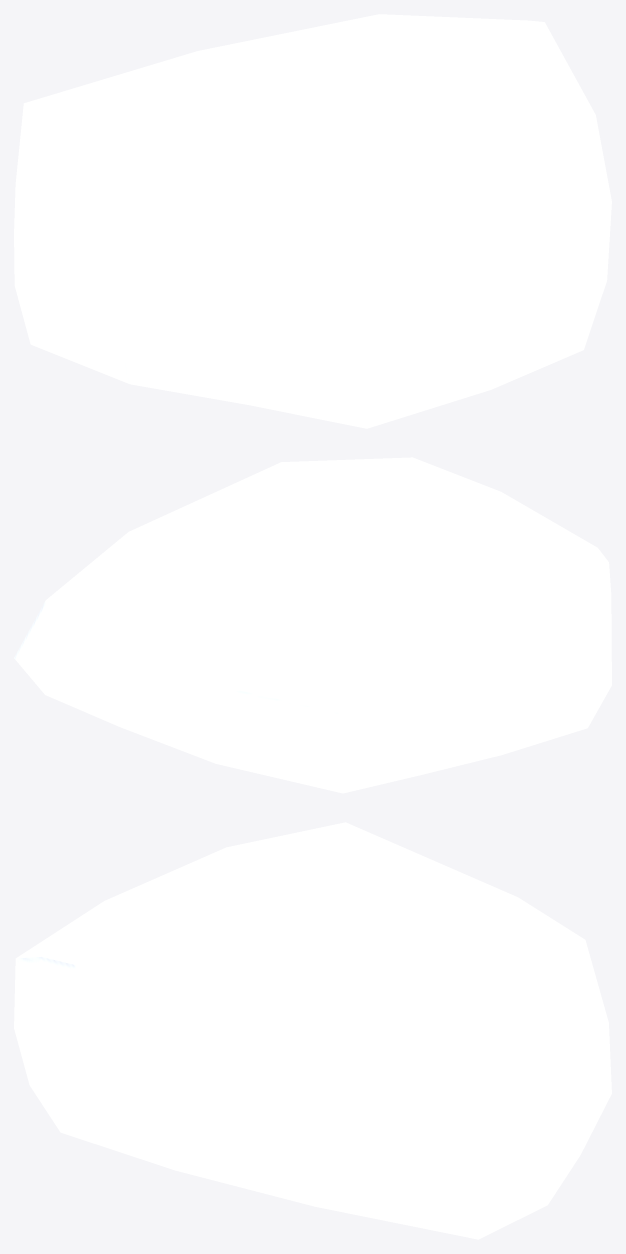
Rendered from LowPolyRock_1.FBX.
3 views of the same model, one above another, from view 1: azimuth 30°, elevation 25°; view 2: azimuth 150°, elevation 25°; view 3: azimuth 270°, elevation 25° (orthographic). The views are drawn at different scales.
Visible parts, largest first — view 1: Rock_2; view 2: Rock_2; view 3: Rock_2.
Boxes of the visible parts, x1,y1,x2,y2 form: Rock_2: (14, 14, 611, 428); Rock_2: (14, 457, 611, 793); Rock_2: (14, 822, 611, 1239).
Bounding box in the file's own units: 8.76 × 2.9 × 7.83.
1 material, 1 textured.
